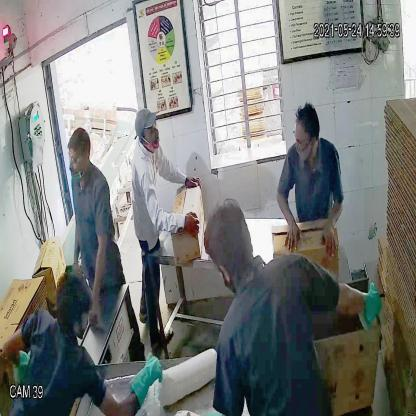goggles: (292, 129, 317, 152), (66, 150, 87, 165)
